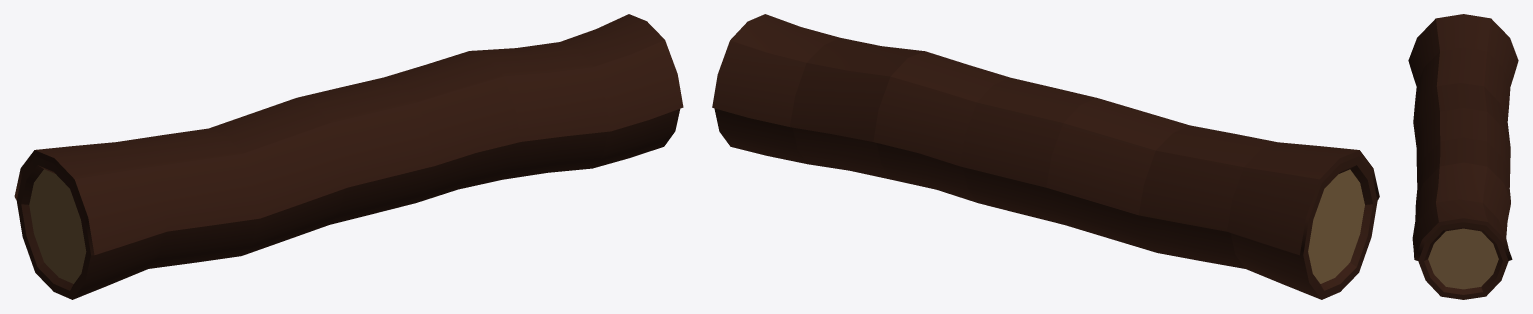
File: wood_with_snow.fbx
3 renders of one model, left to right at view 1: azimuth 30°, elevation 25°; view 2: azimuth 150°, elevation 25°; view 3: azimuth 270°, elevation 25°, orthographic. The views are drawn at different scales.
Parts seen in each view (by area): view 1: snow_on_rondins, Cylinder.000; view 2: snow_on_rondins, Cylinder.000; view 3: snow_on_rondins, Cylinder.000.
Boxes of the visible parts, x1,y1,x2,y2 form: snow_on_rondins: (14, 14, 683, 255); Cylinder.000: (16, 109, 680, 299); snow_on_rondins: (712, 14, 1379, 255); Cylinder.000: (714, 108, 1377, 299); snow_on_rondins: (1408, 14, 1518, 260); Cylinder.000: (1418, 222, 1508, 299).
Bounding box in the file's own units: 569 × 122 × 133.
